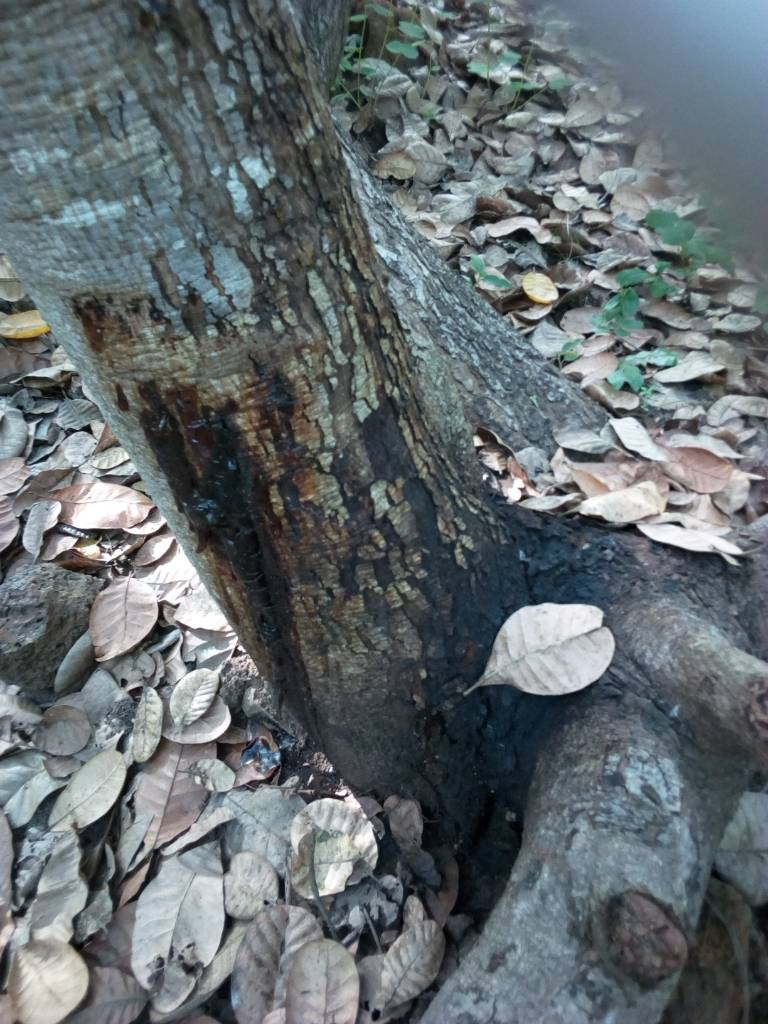Gommose: (340, 421, 627, 817), (144, 375, 294, 582)
